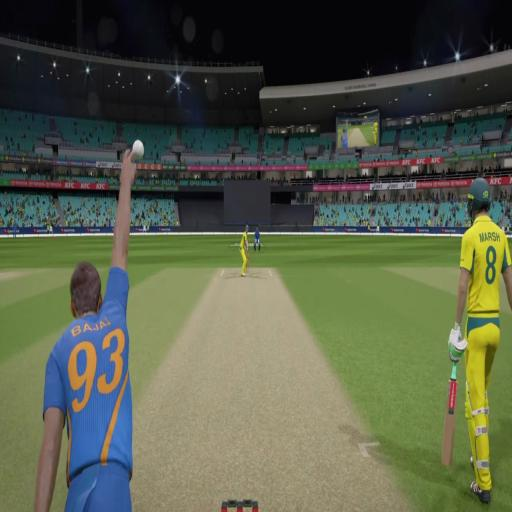ball: (132, 139, 144, 161)
